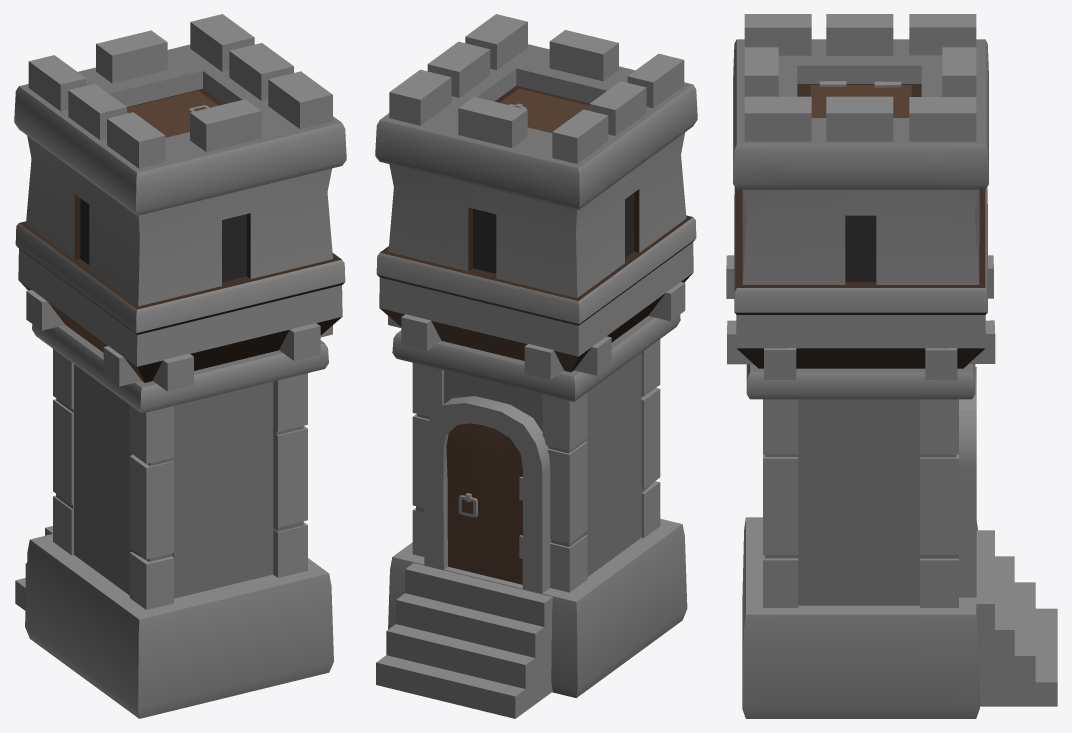
Rendered from tower.fbx.
3 views of the same model, side by side, from view 1: azimuth 30°, elevation 25°; view 2: azimuth 150°, elevation 25°; view 3: azimuth 270°, elevation 25° (orthographic). The views are drawn at different scales.
Visible parts, largest first — view 1: Tower; view 2: Tower; view 3: Tower.
Boxes of the visible parts, x1,y1,x2,y2 form: Tower: (14,14,346,718); Tower: (375,14,697,718); Tower: (726,14,1057,718).
Bounding box in the file's own units: 267 × 684 × 338.
